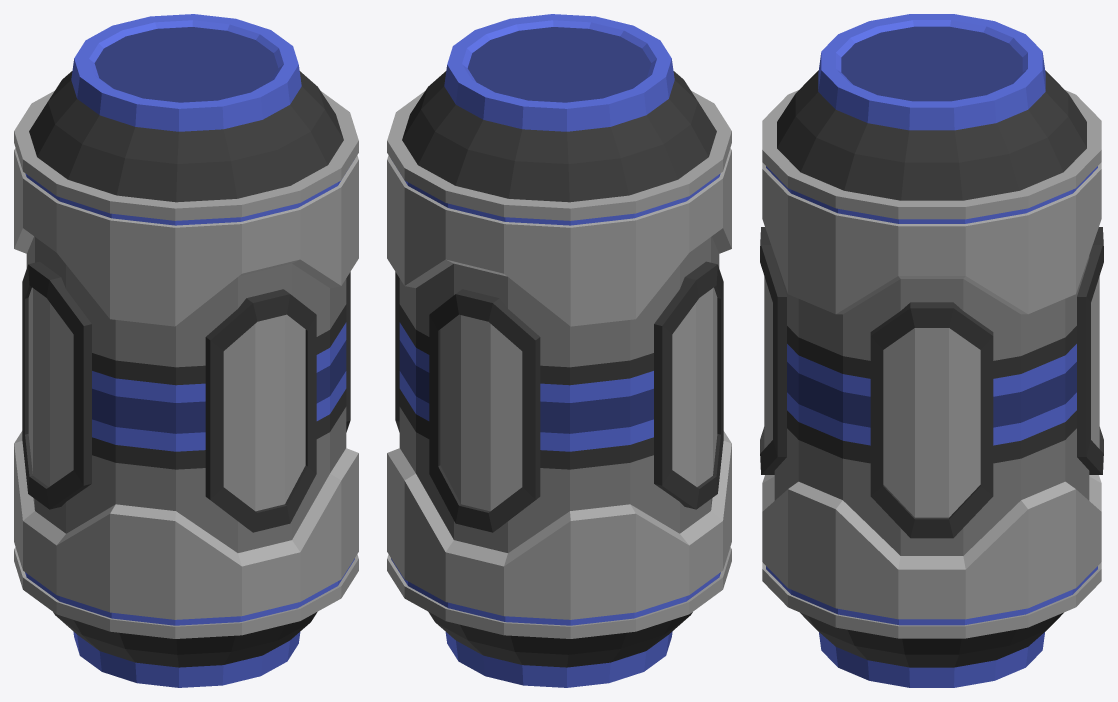
3 views of the same model, side by side, from view 1: azimuth 30°, elevation 25°; view 2: azimuth 150°, elevation 25°; view 3: azimuth 270°, elevation 25° (orthographic).
Parts seen in each view (by area): view 1: Props_Capsule.001; view 2: Props_Capsule.001; view 3: Props_Capsule.001.
Boxes of the visible parts, box(x1,y1,x2,y2) form: Props_Capsule.001: box(14, 14, 358, 687); Props_Capsule.001: box(387, 14, 731, 687); Props_Capsule.001: box(760, 14, 1103, 687).
Bounding box in the file's own units: 0.8693 × 1.62 × 0.8693.
